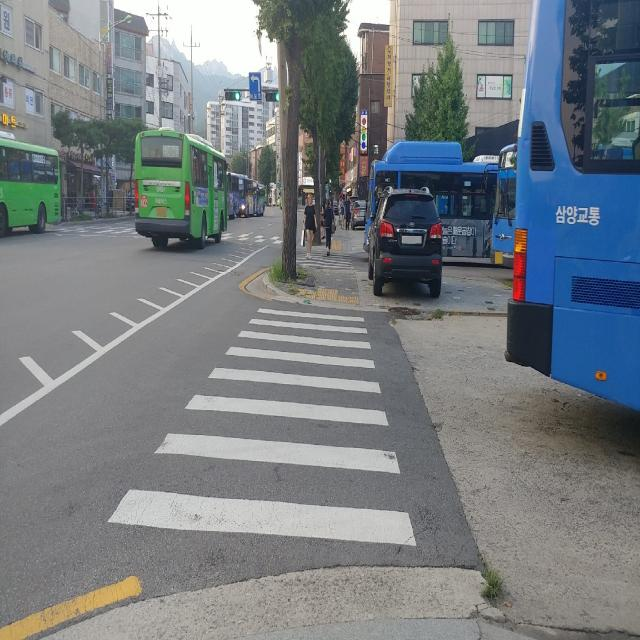횡단보도: (108, 308, 416, 547)
